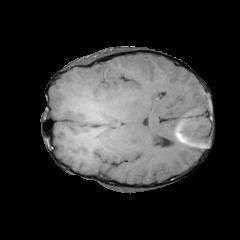glioma: (74, 66, 129, 156)
